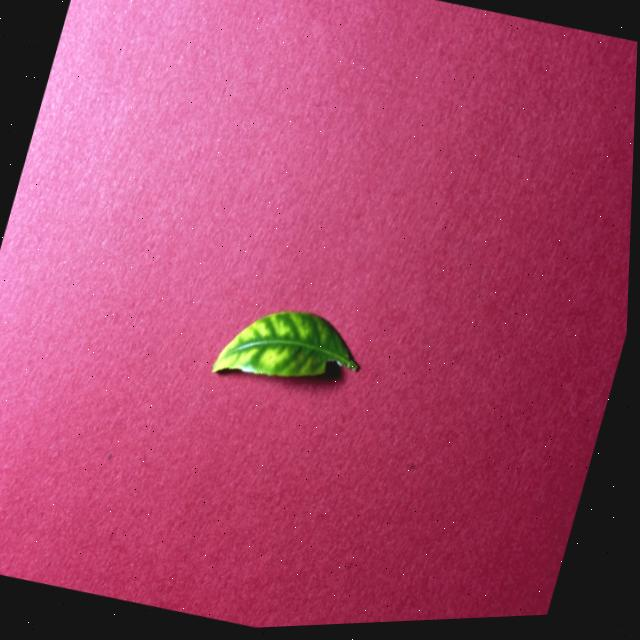greening: (211, 311, 357, 376)
